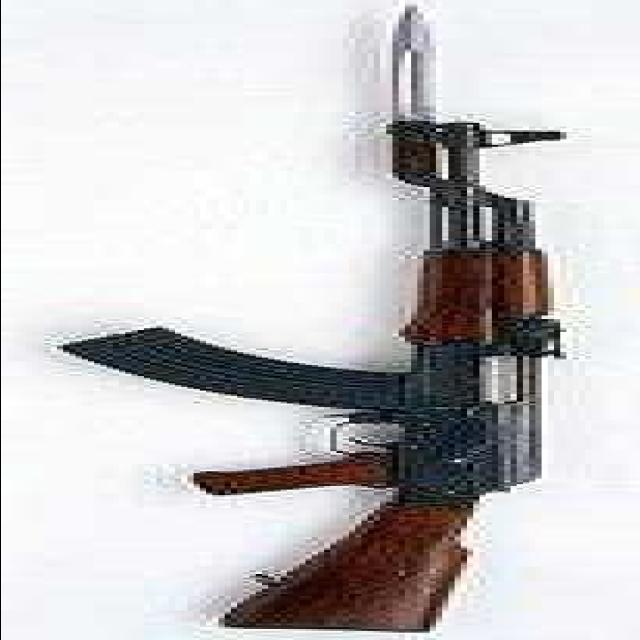heavyweapon: (57, 124, 616, 630)
